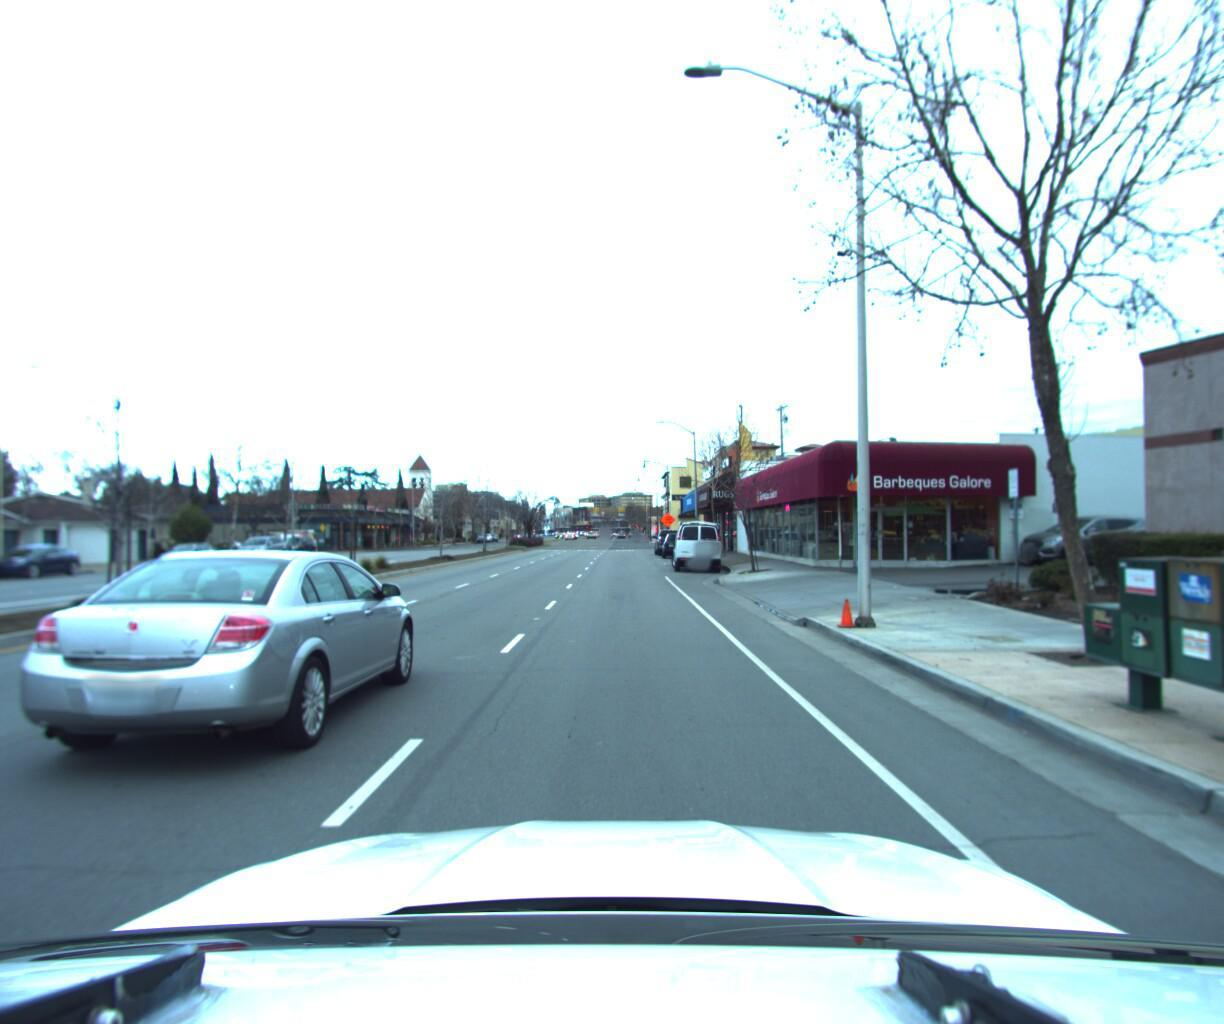car: (11, 547, 439, 784), (0, 542, 93, 584), (671, 515, 725, 571), (152, 540, 222, 568), (253, 527, 320, 554), (233, 534, 291, 561), (274, 533, 319, 557), (660, 527, 690, 554)
truck: (651, 524, 688, 553)
